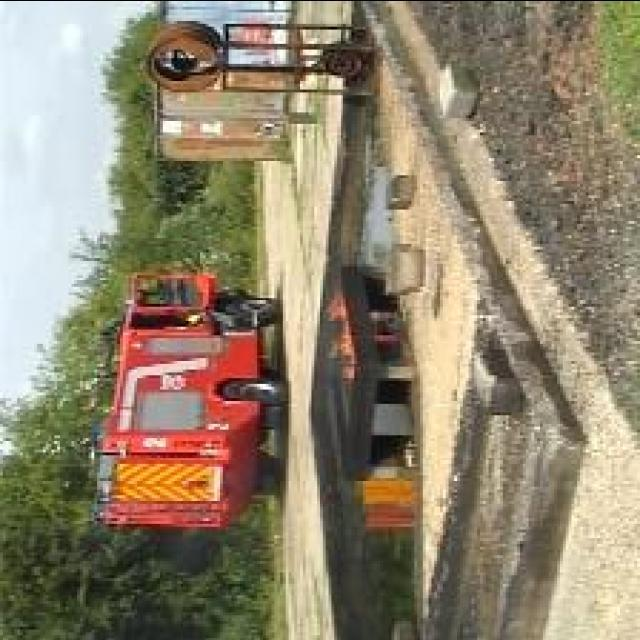Fire: (327, 284, 359, 378)
